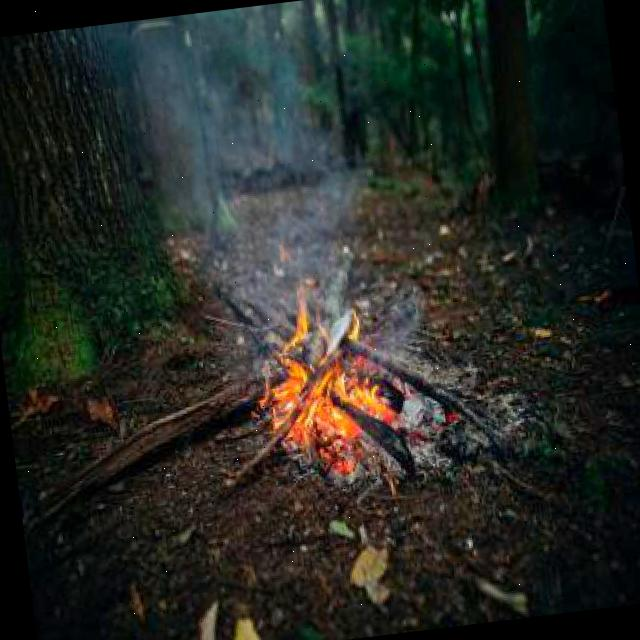fire: (259, 300, 385, 470)
